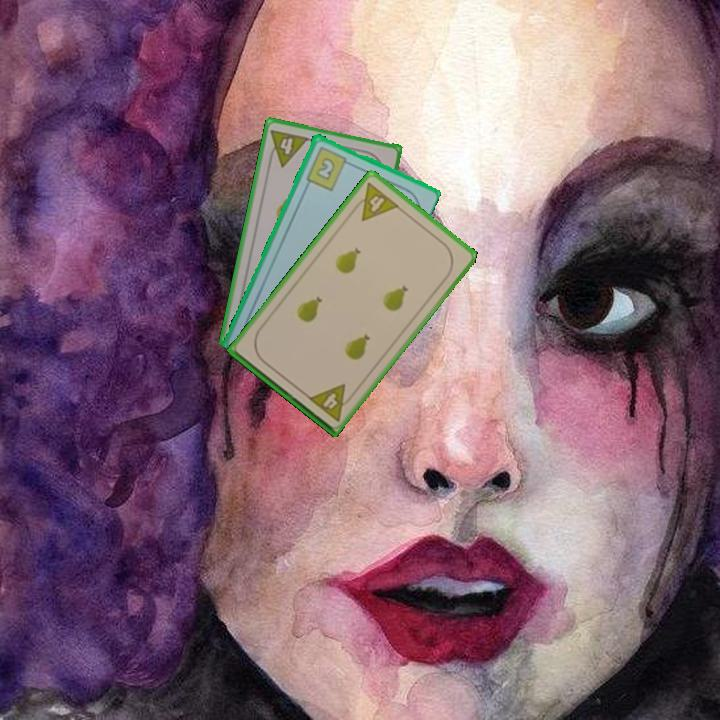2b: (302, 142, 354, 193)
4p: (347, 179, 402, 224), (304, 379, 358, 424), (264, 126, 311, 170)
